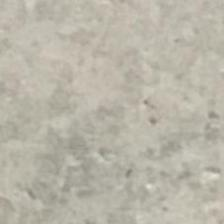Non_Crack: (26, 31, 222, 200)
